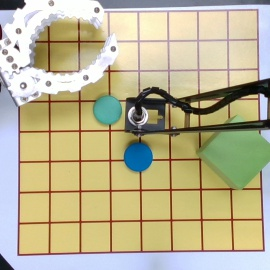blue: (123, 144, 153, 171)
green: (93, 96, 122, 125)
